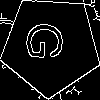G: (26, 21, 72, 62)
